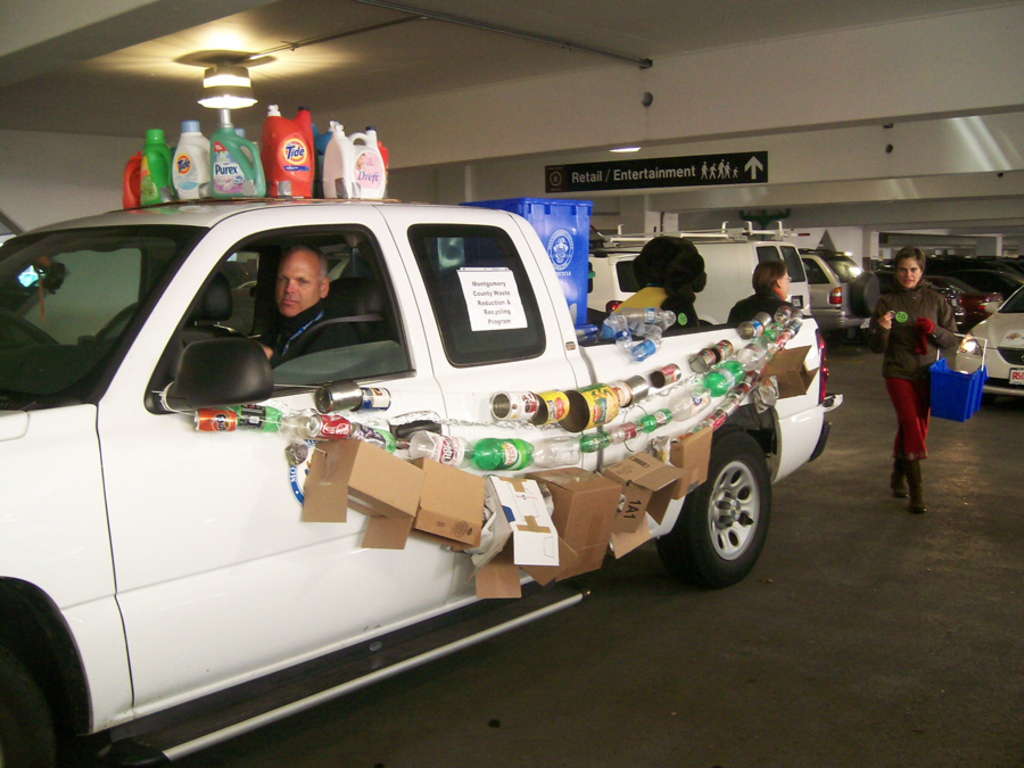person: (249, 243, 373, 364)
